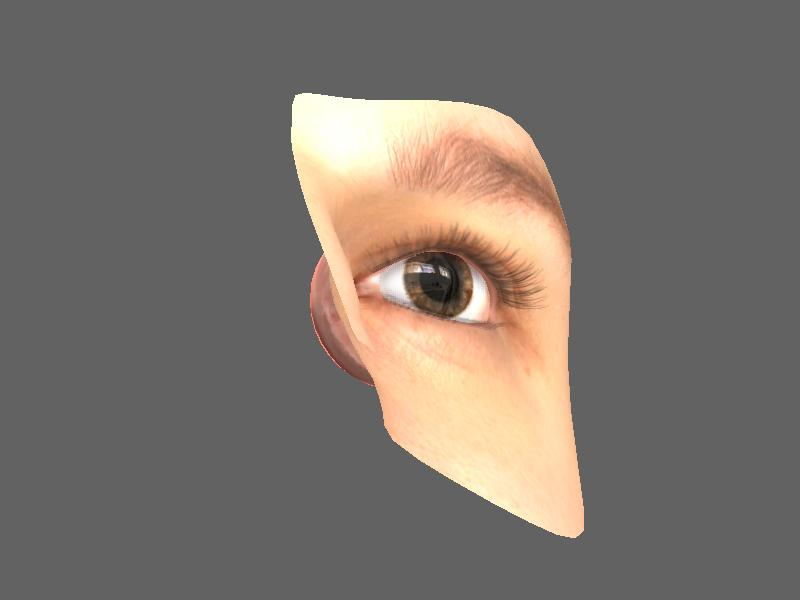iris: (400, 251, 474, 320)
